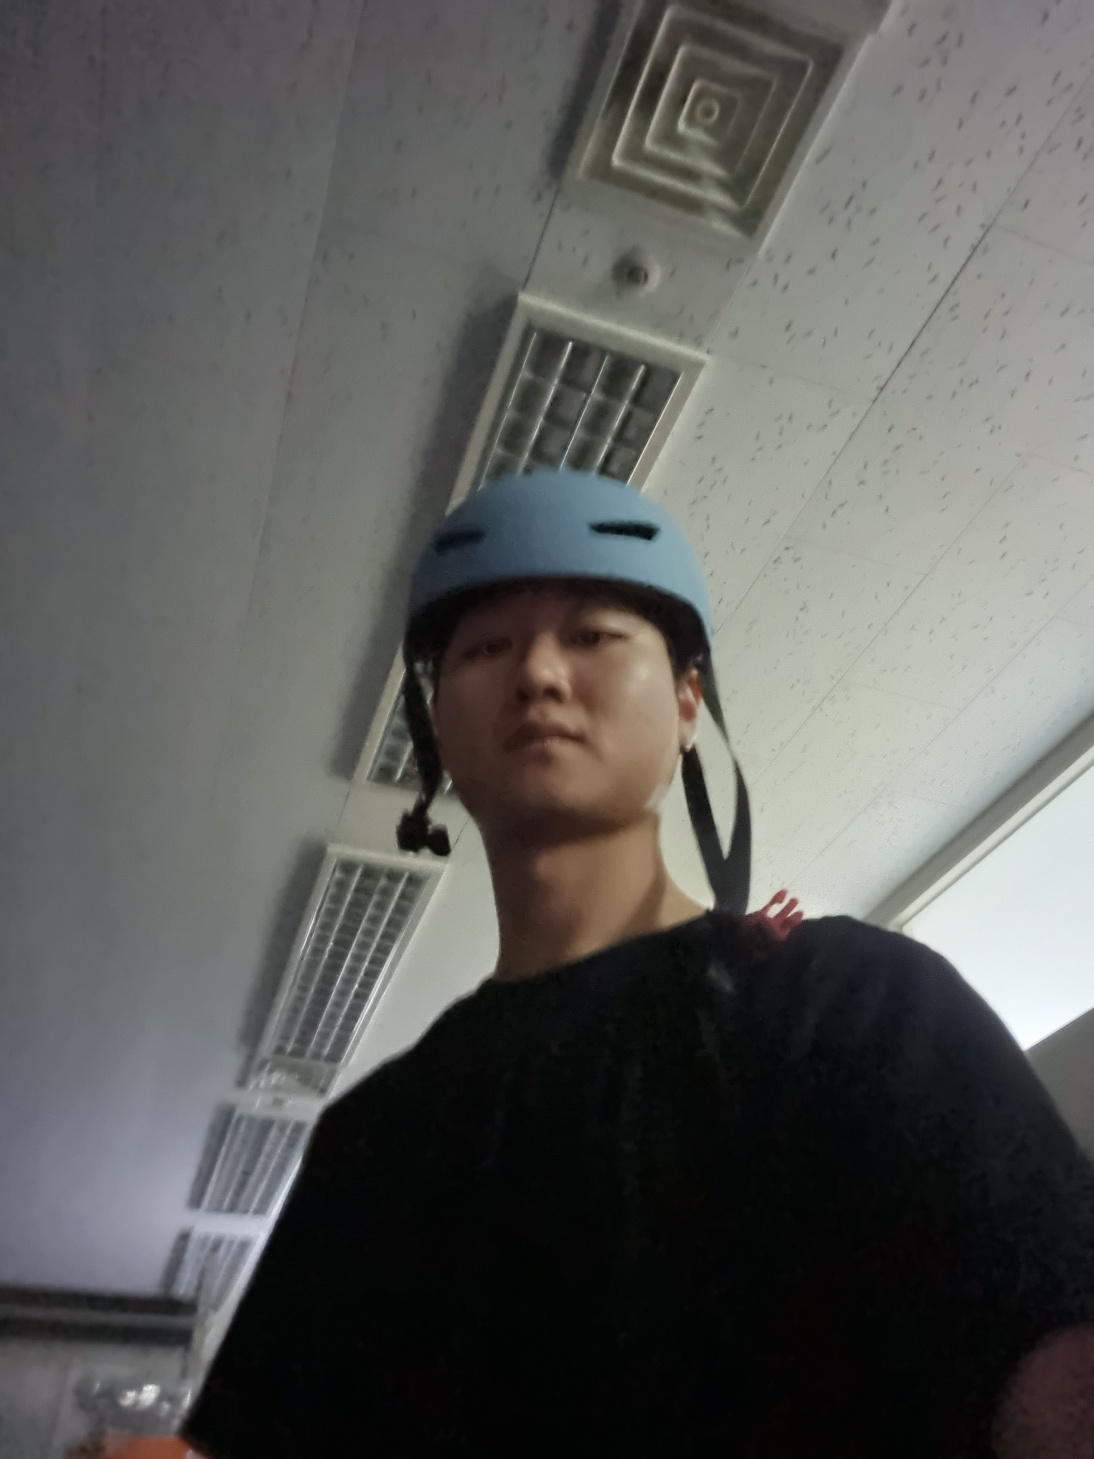Helmet: (341, 453, 788, 874)
